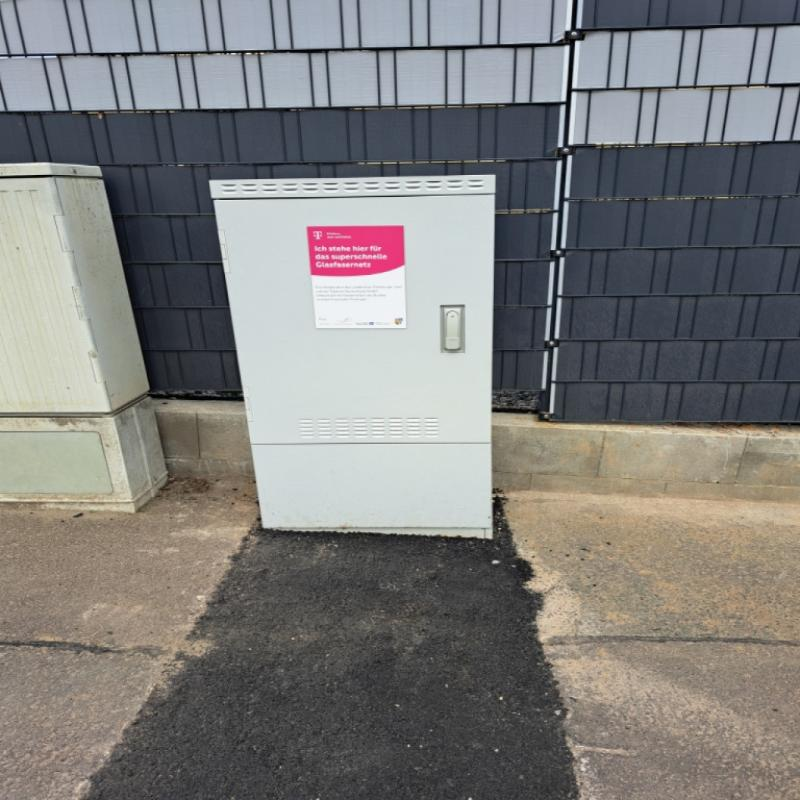NT-Gehause: (204, 178, 504, 540)
Steaker: (302, 225, 408, 333)
